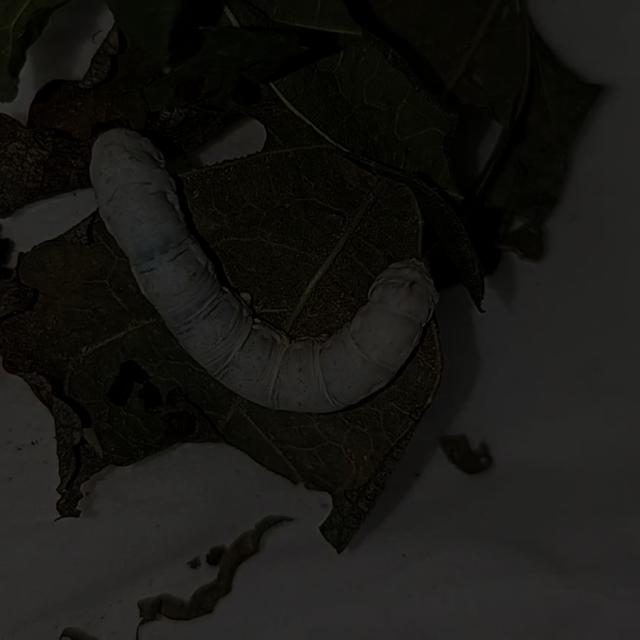Healthy: (53, 90, 460, 434)
